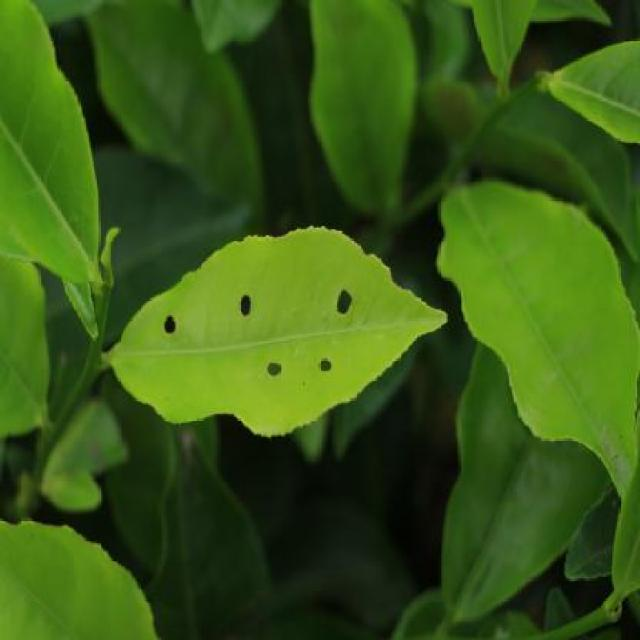Tea Mosquito bug infested leaf: (109, 231, 429, 431)
